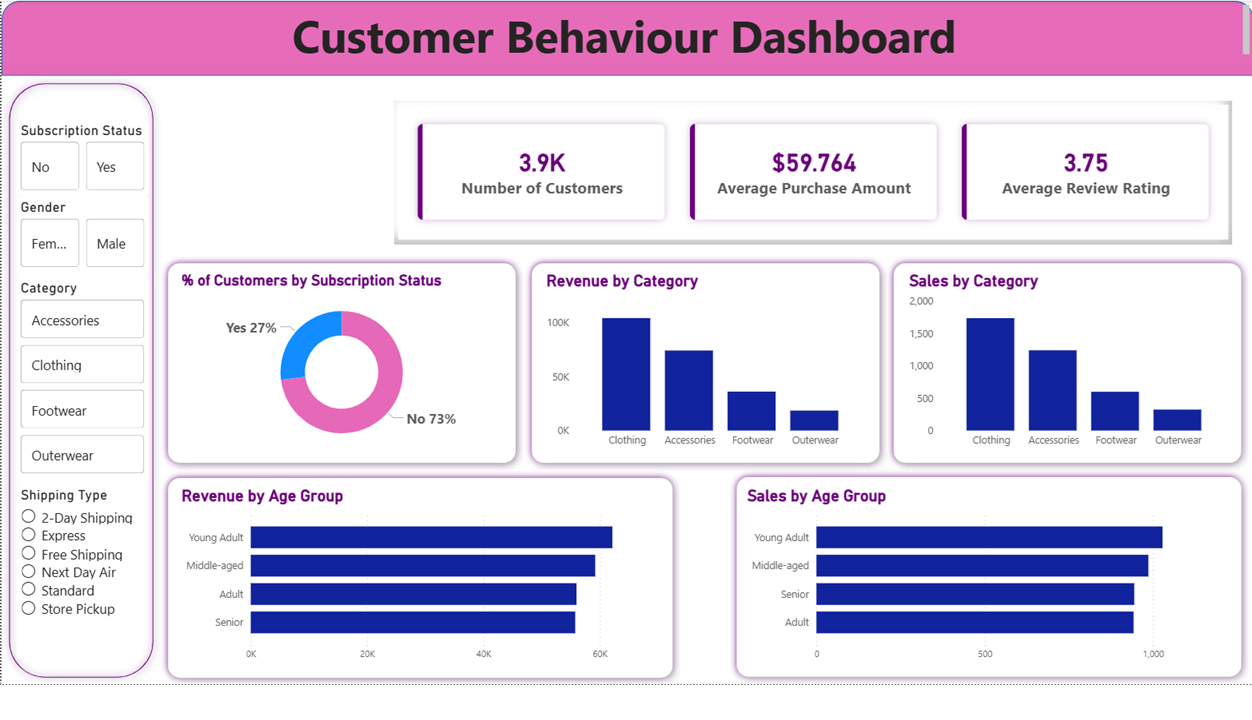

The page's visual inventory and layout, read from the dashboard file:
{"tool":"powerbi","page":{"name":"Page 1","canvas":[1500,820],"ordinal":0},"visuals":[{"type":"cardVisual","fields":{"Data":["customer.Number of Customers","customer.Average Purchase Amount","customer.Average Review Rating"]},"box":[470.1,119.9,1004.3,171.7],"z":0},{"type":"shape","box":[0,0,1500.3,89.9],"z":1000},{"type":"textbox","box":[0,0,1500.3,74.9],"z":2000},{"type":"shape","box":[190.8,305.2,434.7,257.5],"z":3000},{"type":"donutChart","title":"% of Customers by Subscription Status","fields":{"Category":["customer.subscription_status"],"Y":["CountNonNull(customer.customer_id)"]},"box":[211.2,324.3,393.8,220.7],"z":4000},{"type":"shape","box":[626.8,305.2,434.7,257.5],"z":5000},{"type":"shape","box":[1060.1,305.2,434.7,257.5],"z":6000},{"type":"clusteredColumnChart","title":"Revenue by Category","fields":{"Y":["Sum(customer.purchase_amount)"],"Category":["customer.category"]},"box":[647.3,324.3,392.4,220.7],"z":7000},{"type":"clusteredColumnChart","title":"Sales by Category","fields":{"Category":["customer.category"],"Y":["CountNonNull(customer.customer_id)"]},"box":[1081.9,324.3,392.4,220.7],"z":8000},{"type":"shape","box":[0,89.9,190.8,730.4],"z":9000},{"type":"advancedSlicerVisual","fields":{"Values":["customer.subscription_status"]},"box":[17.7,144.4,158.1,87.2],"z":10000},{"type":"advancedSlicerVisual","fields":{"Values":["customer.gender"]},"box":[17.7,237.1,158.1,87.2],"z":11000},{"type":"advancedSlicerVisual","fields":{"Values":["customer.category"]},"box":[17.7,333.8,158.1,239.8],"z":12000},{"type":"listSlicer","fields":{"Values":["customer.shipping_type"]},"box":[17.7,581.9,149.9,207.1],"z":13000},{"type":"shape","box":[190.8,562.8,622.7,257.5],"z":14000},{"type":"clusteredBarChart","title":"Revenue by Age Group","fields":{"Y":["Sum(customer.purchase_amount)"],"Category":["customer.age_group"]},"box":[211.2,581.9,590,218],"z":15000},{"type":"shape","box":[872.1,561.4,622.7,257.5],"z":16000},{"type":"clusteredBarChart","title":"Sales by Age Group","fields":{"Y":["CountNonNull(customer.customer_id)"],"Category":["customer.age_group"]},"box":[888.4,581.9,590,218],"z":17000}]}

Visuals, with their boxes on the page's 1500x820 design canvas (x1, y1, x2, y2). These are canvas units, not pixel positions in the 1252x720 screenshot, which may show the page scaled, cropped or inside an application window:
cardVisual - customer.Number of Customers x customer.Average Purchase Amount: {"left": 470, "top": 120, "right": 1474, "bottom": 292}
shape: {"left": 0, "top": 0, "right": 1500, "bottom": 90}
textbox: {"left": 0, "top": 0, "right": 1500, "bottom": 75}
shape: {"left": 191, "top": 305, "right": 626, "bottom": 563}
"% of Customers by Subscription Status" donutChart: {"left": 211, "top": 324, "right": 605, "bottom": 545}
shape: {"left": 627, "top": 305, "right": 1062, "bottom": 563}
shape: {"left": 1060, "top": 305, "right": 1495, "bottom": 563}
"Revenue by Category" clusteredColumnChart: {"left": 647, "top": 324, "right": 1040, "bottom": 545}
"Sales by Category" clusteredColumnChart: {"left": 1082, "top": 324, "right": 1474, "bottom": 545}
shape: {"left": 0, "top": 90, "right": 191, "bottom": 820}
advancedSlicerVisual - customer.subscription_status: {"left": 18, "top": 144, "right": 176, "bottom": 232}
advancedSlicerVisual - customer.gender: {"left": 18, "top": 237, "right": 176, "bottom": 324}
advancedSlicerVisual - customer.category: {"left": 18, "top": 334, "right": 176, "bottom": 574}
listSlicer - customer.shipping_type: {"left": 18, "top": 582, "right": 168, "bottom": 789}
shape: {"left": 191, "top": 563, "right": 814, "bottom": 820}
"Revenue by Age Group" clusteredBarChart: {"left": 211, "top": 582, "right": 801, "bottom": 800}
shape: {"left": 872, "top": 561, "right": 1495, "bottom": 819}
"Sales by Age Group" clusteredBarChart: {"left": 888, "top": 582, "right": 1478, "bottom": 800}
